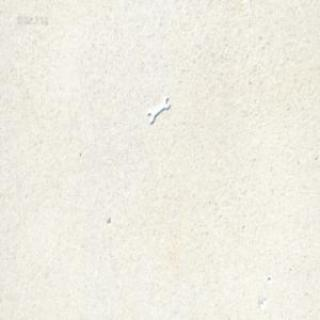Wrenchtrack_idkeyframe: (146, 97, 169, 124)
